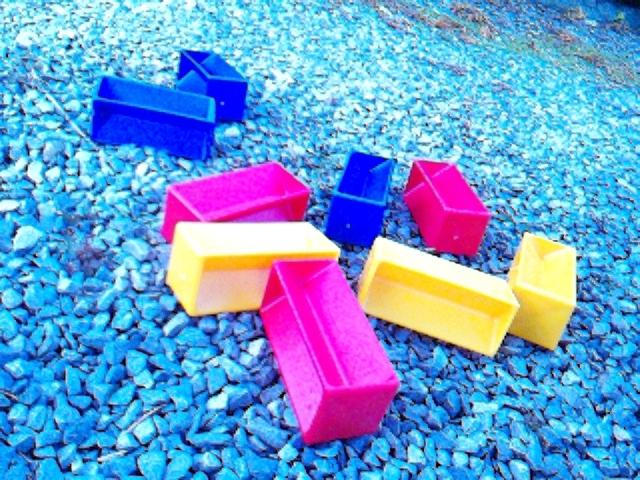blue: (90, 75, 218, 162), (325, 150, 394, 248), (176, 48, 249, 123)
red: (258, 258, 401, 446), (161, 160, 311, 244), (402, 158, 492, 257)
yellow: (357, 236, 520, 358), (165, 220, 341, 318), (506, 232, 578, 351)
